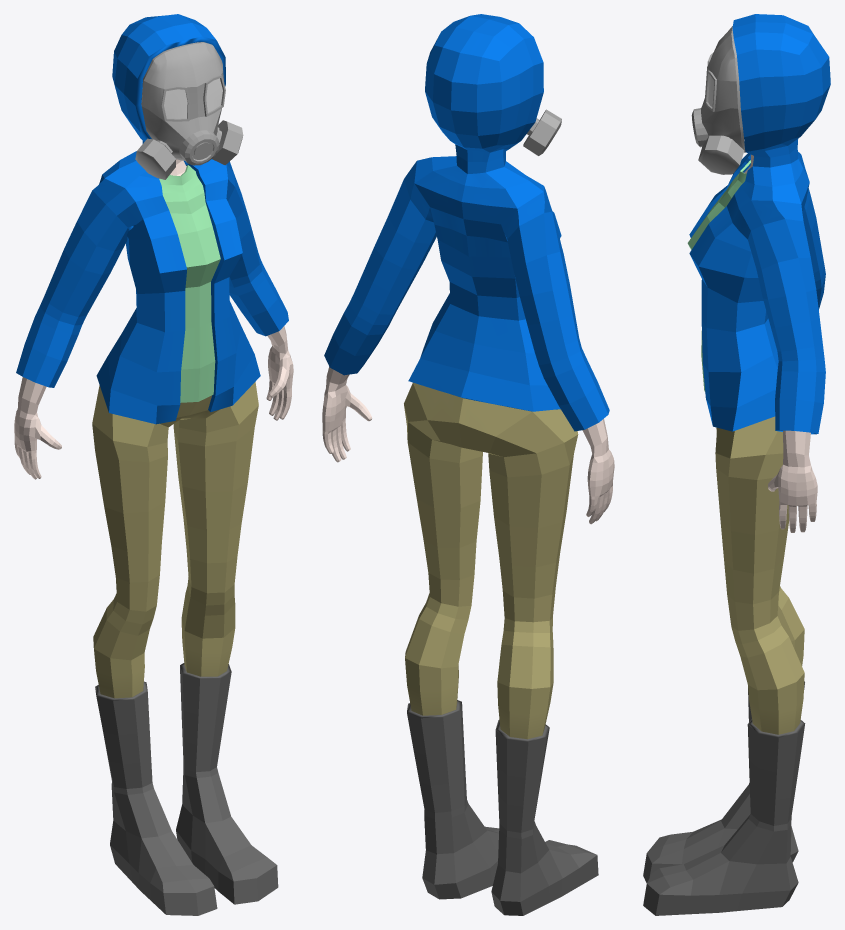
The model's file is CamilaMesh.fbx.
The picture shows the model from 3 angles, left to right: view 1: azimuth 30°, elevation 25°; view 2: azimuth 150°, elevation 25°; view 3: azimuth 270°, elevation 25°; orthographic projection. The views are drawn at different scales.
Parts seen in each view (by area): view 1: base1, base2, boots, Gas_MAsk, FemaleMesh6, base; view 2: base1, base2, boots, base, Gas_MAsk; view 3: base1, base2, boots, Gas_MAsk, base, FemaleMesh6.
Part boxes in pixels (<box>): base1: <box>16,14,288,424</box>; base2: <box>92,382,258,698</box>; boots: <box>95,663,278,915</box>; Gas_MAsk: <box>135,42,243,179</box>; FemaleMesh6: <box>159,165,220,402</box>; base: <box>14,159,293,479</box>; base1: <box>324,14,609,431</box>; base2: <box>404,382,578,739</box>; boots: <box>407,700,598,915</box>; base: <box>322,367,614,524</box>; Gas_MAsk: <box>523,109,561,155</box>; base1: <box>689,14,830,434</box>; base2: <box>715,416,804,734</box>; boots: <box>643,681,805,915</box>; Gas_MAsk: <box>691,26,745,174</box>; base: <box>744,139,817,532</box>; FemaleMesh6: <box>687,160,750,391</box>.
Size of the model in its own units: 1.38 by 4.13 by 0.8084.
